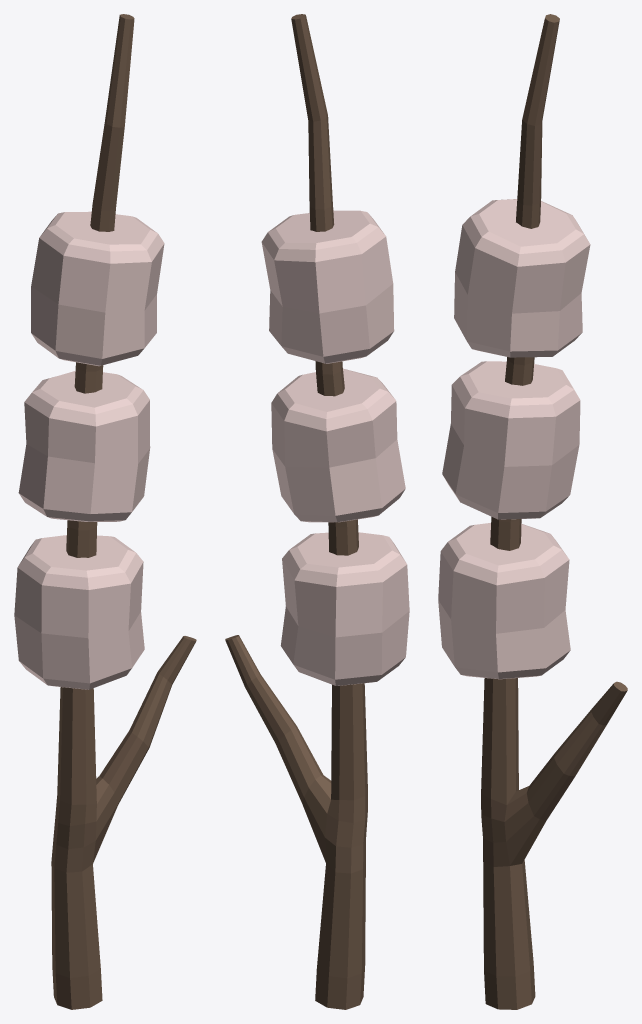
Rendered from Marshmallow on Stick.fbx.
The picture shows the model from 3 angles, left to right: view 1: azimuth 30°, elevation 25°; view 2: azimuth 150°, elevation 25°; view 3: azimuth 330°, elevation 25°; orthographic projection. The views are drawn at different scales.
Visible parts, largest first — view 1: Marshmallow on Stick; view 2: Marshmallow on Stick; view 3: Marshmallow on Stick.
Part boxes in pixels (box(x1,y1,x2,y2)): Marshmallow on Stick: box(14, 14, 196, 1009); Marshmallow on Stick: box(225, 14, 409, 1009); Marshmallow on Stick: box(438, 14, 627, 1009).
Size of the model in its own units: 27.13 by 149 by 17.48.
